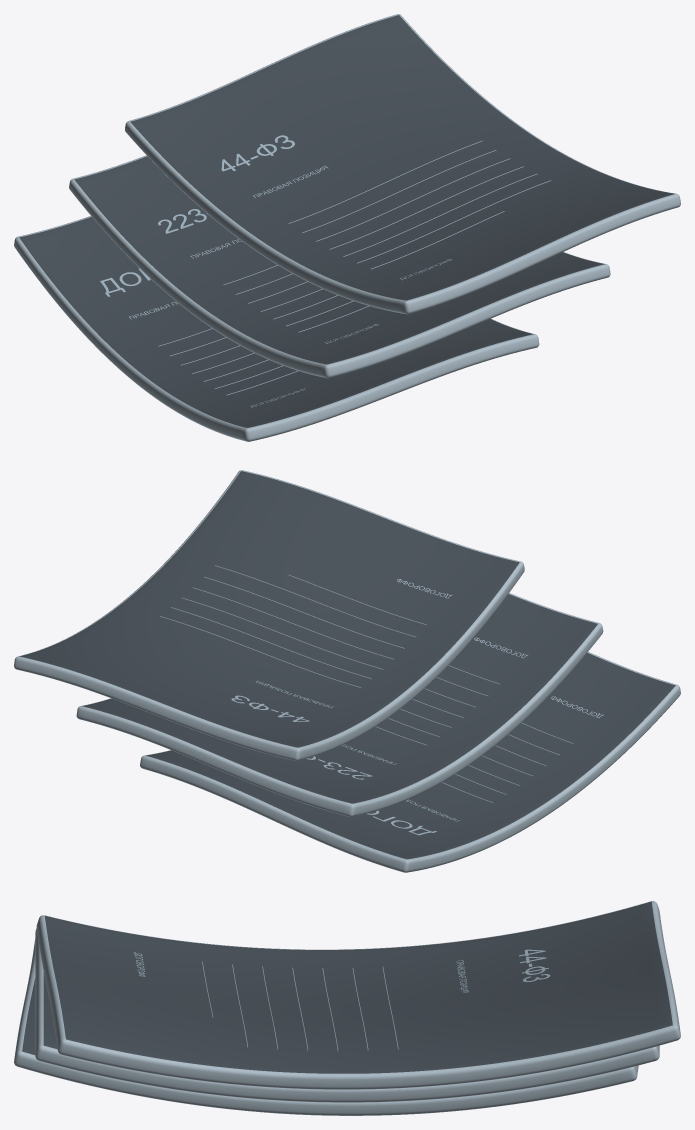
Rendered from legal-atlas.glb.
3 renders of one model, top to bottom at view 1: azimuth 30°, elevation 25°; view 2: azimuth 150°, elevation 25°; view 3: azimuth 270°, elevation 25°, orthographic. The views are drawn at different scales.
Visible parts, largest first — view 1: Atlas_Sheet_2, Atlas_Sheet_1, Atlas_Sheet_0; view 2: Atlas_Sheet_2, Atlas_Sheet_0, Atlas_Sheet_1; view 3: Atlas_Sheet_2, Atlas_Sheet_1, Atlas_Sheet_0, Atlas_Engraving.006.
Part boxes in pixels (x1,y1,x2,y2): Atlas_Sheet_2: (125,14,680,314); Atlas_Sheet_1: (69,155,610,378); Atlas_Sheet_0: (14,216,539,441); Atlas_Sheet_2: (14,470,524,760); Atlas_Sheet_0: (140,651,680,872); Atlas_Sheet_1: (76,593,603,816); Atlas_Sheet_2: (36,901,680,1089); Atlas_Sheet_1: (35,928,659,1102); Atlas_Sheet_0: (14,939,638,1115); Atlas_Engraving.006: (519,949,550,981).
Size of the model in its own units: 3.28 by 1.18 by 3.54.
